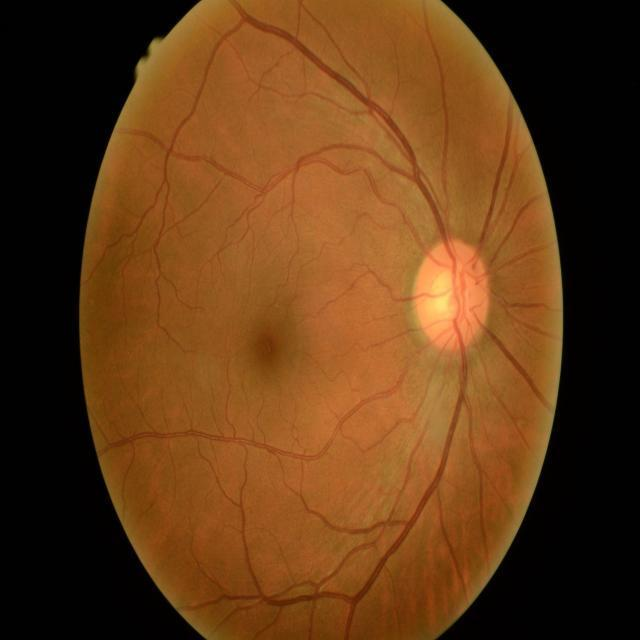cup: (429, 266, 469, 322)
disk: (414, 238, 489, 352)
